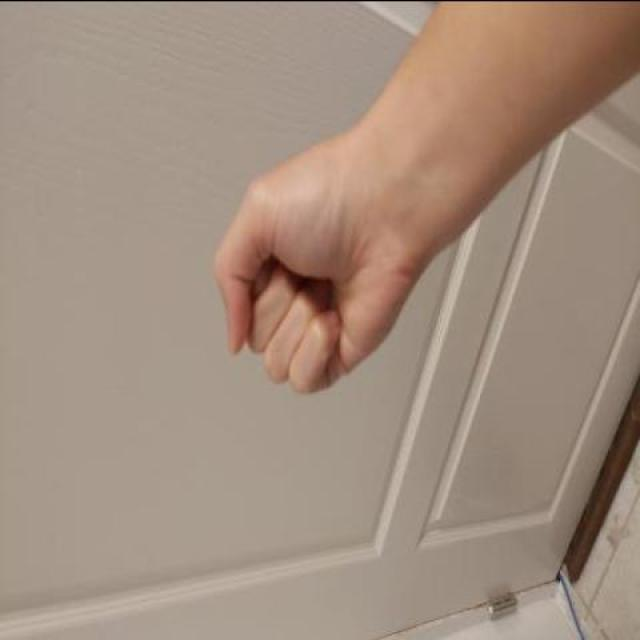Closed Hand: (204, 137, 420, 398)
